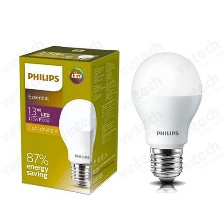carton: (14, 37, 122, 196)
light_bulb: (127, 47, 210, 195)
